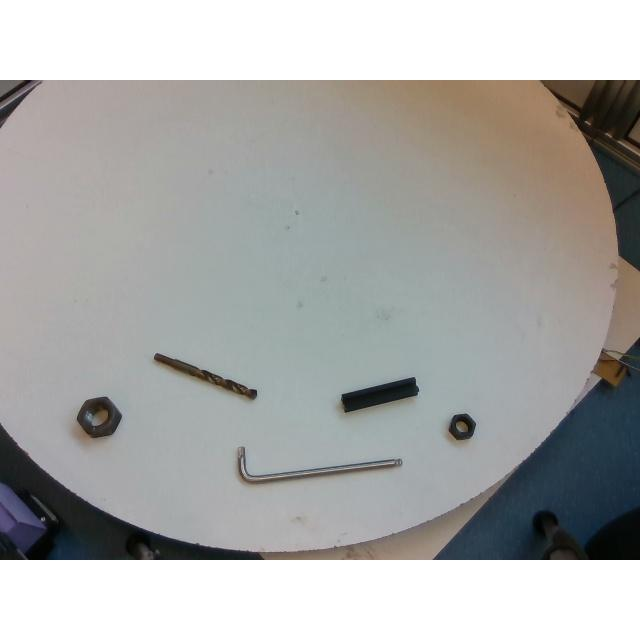AllenKey: (238, 446, 402, 482)
Drill: (153, 354, 257, 398)
F20_20_B: (342, 376, 418, 412)
M20: (448, 412, 477, 440)
M30: (76, 396, 120, 436)
